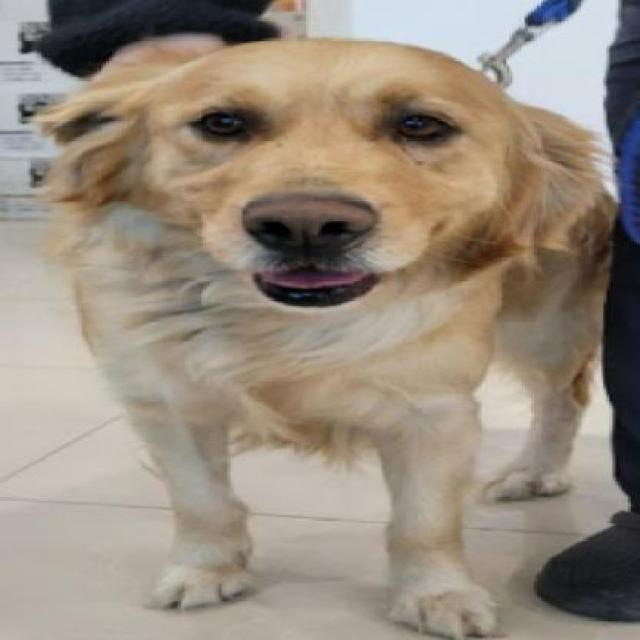Dog: (28, 40, 608, 638)
